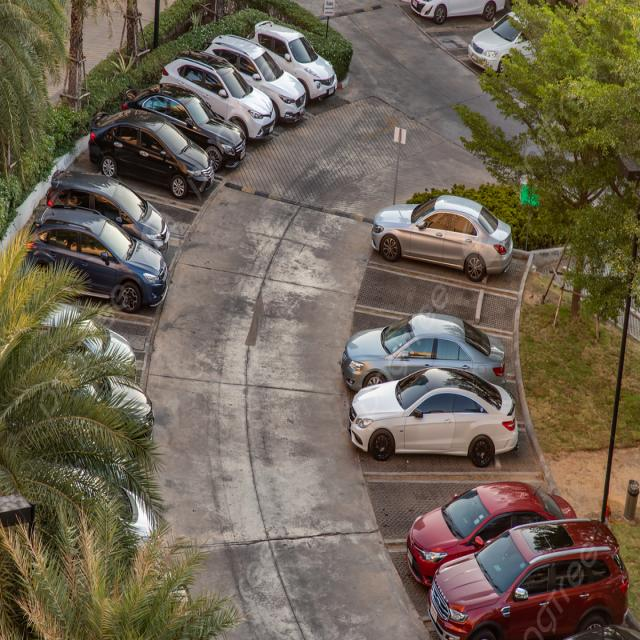libre: (365, 470, 575, 551), (346, 251, 523, 334), (12, 273, 157, 364), (68, 151, 195, 240)
ocupado: (420, 508, 632, 639), (392, 476, 577, 595), (348, 358, 528, 461), (17, 203, 174, 315), (336, 308, 511, 393), (364, 186, 515, 281), (82, 108, 226, 205), (154, 46, 285, 151), (42, 160, 174, 259), (120, 79, 254, 176), (203, 22, 318, 131), (241, 12, 345, 108)
